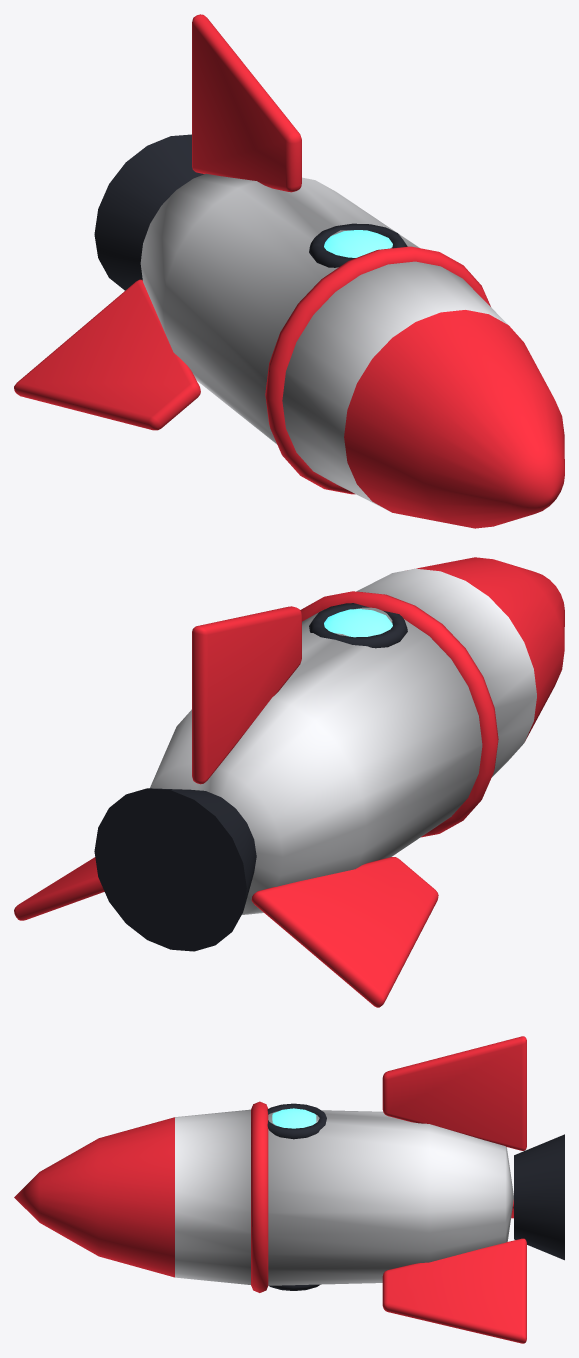
The model's file is rocket.glb.
3 renders of one model, top to bottom at view 1: azimuth 30°, elevation 25°; view 2: azimuth 150°, elevation 25°; view 3: azimuth 270°, elevation 25°, orthographic. The views are drawn at different scales.
Parts seen in each view (by area): view 1: Rocket; view 2: Rocket; view 3: Rocket.
Boxes of the visible parts, x1=… form: Rocket: x1=14, y1=14, x2=564, y2=528; Rocket: x1=14, y1=557, x2=564, y2=1007; Rocket: x1=14, y1=1036, x2=564, y2=1343.
Bounding box in the file's own units: 0.7276 × 0.6439 × 1.3.
